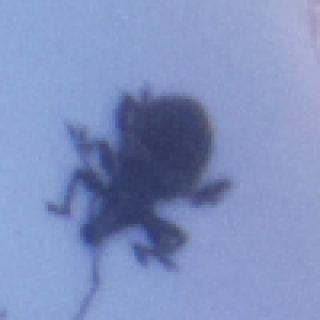bvw: (43, 83, 230, 320)
